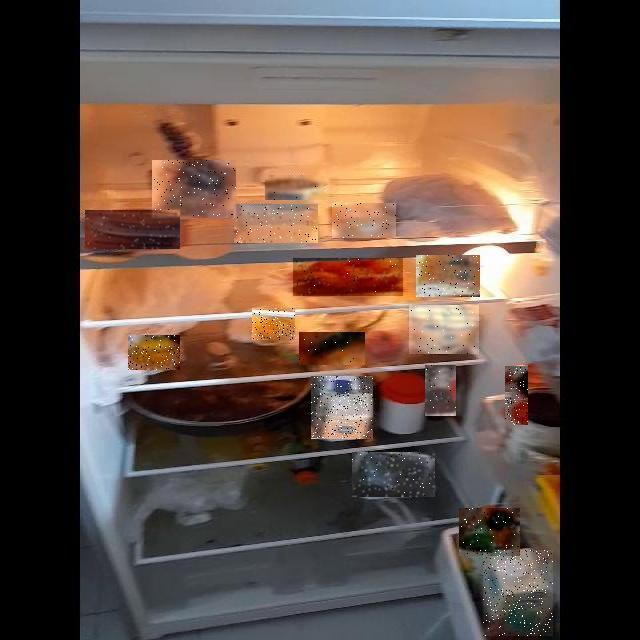Bread: (152, 160, 236, 218)
Broccoli: (352, 452, 435, 497)
Butter: (332, 203, 396, 238)
Carrot: (293, 258, 403, 296)
Cheese: (235, 204, 319, 243)
Chillies: (299, 332, 365, 365)
Juice: (459, 508, 520, 556)
Lemon: (128, 335, 180, 370), (252, 308, 295, 340)
Milk: (483, 550, 553, 636), (311, 376, 373, 439)
Sauce: (425, 365, 456, 416), (505, 366, 528, 425)
Sausages: (85, 210, 180, 249)
Yoghurt: (409, 305, 479, 354), (416, 255, 480, 297), (266, 175, 326, 200)
